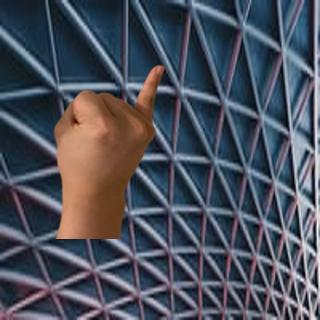FINE: (50, 59, 168, 206)
